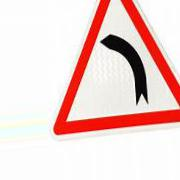left: (52, 1, 180, 136)
